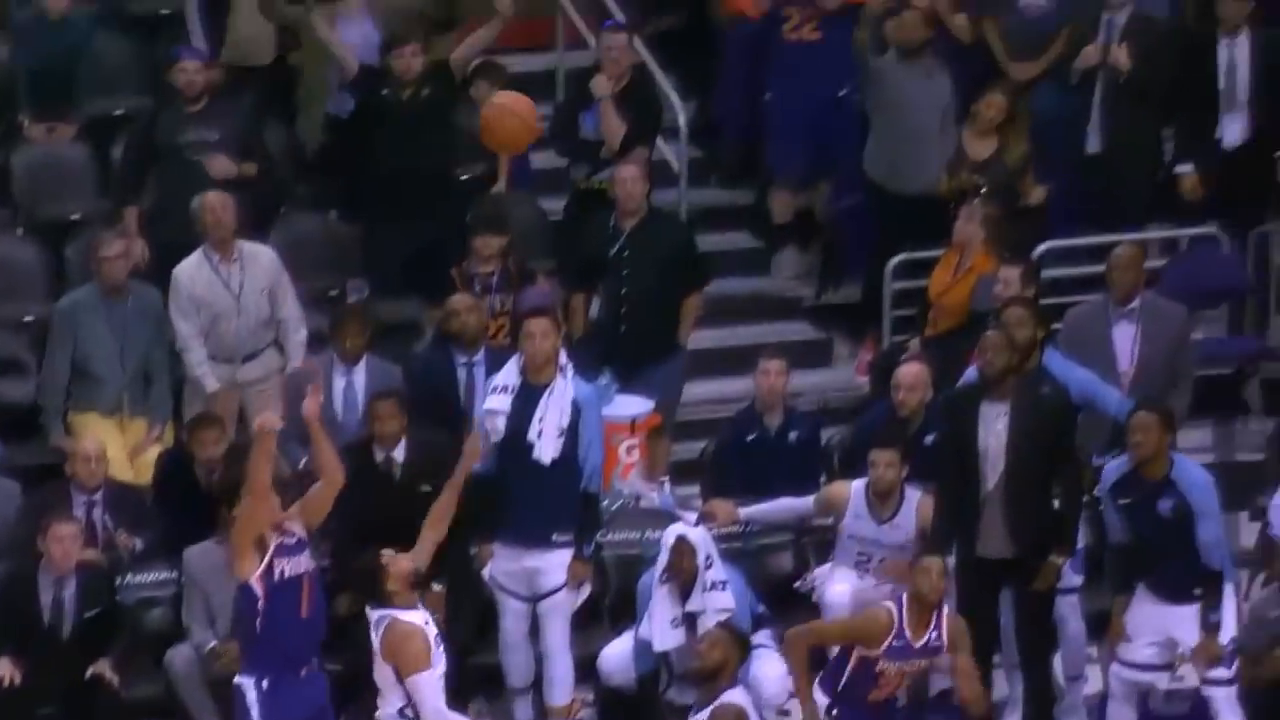ball: (476, 90, 547, 158)
